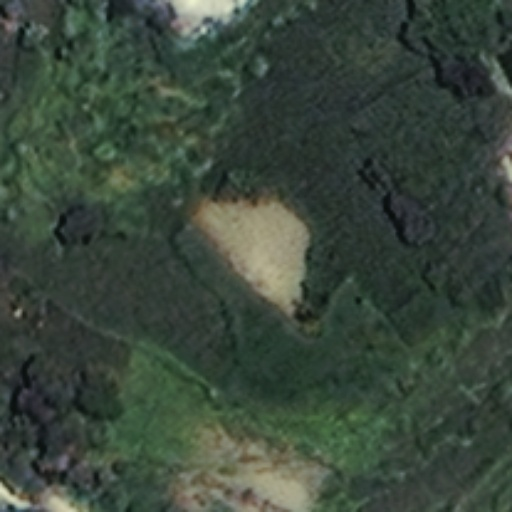landslide: (195, 194, 313, 322)
